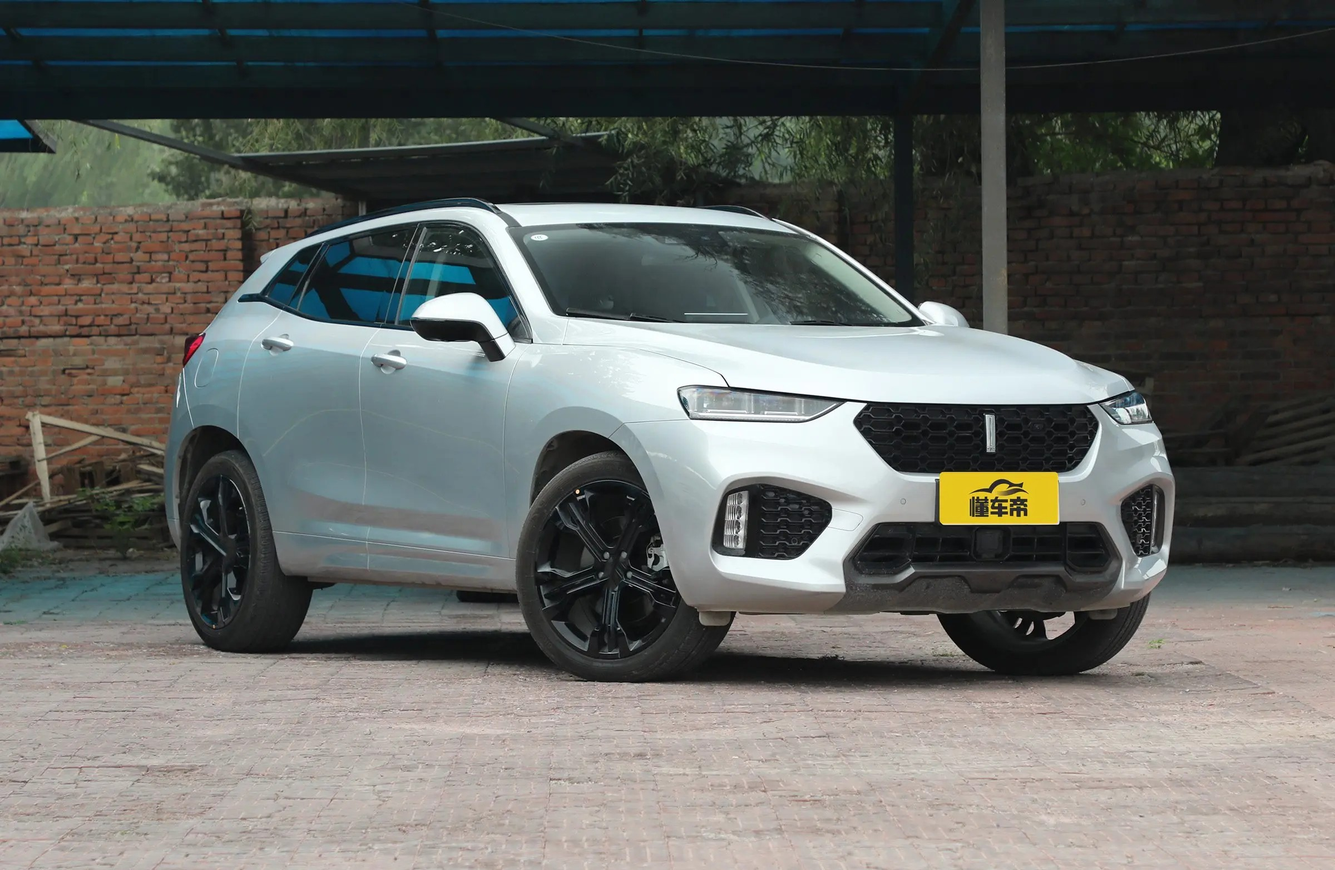WEY: (986, 415, 995, 453)
